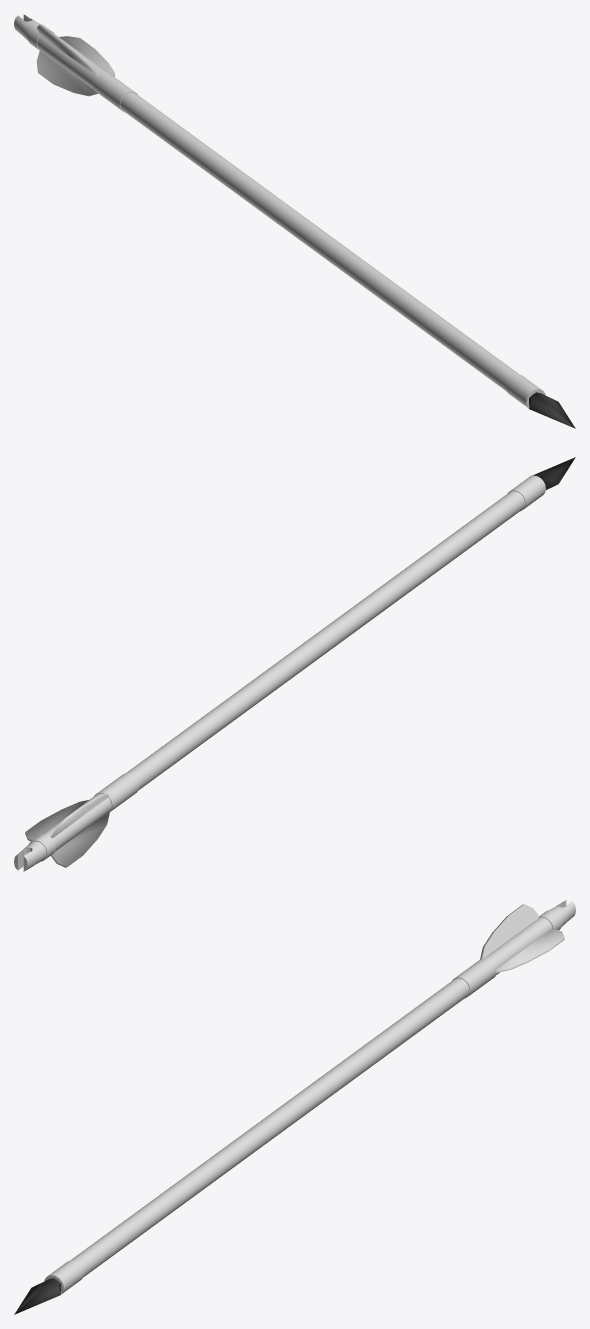
3 views of the same model, one above another, from view 1: azimuth 30°, elevation 25°; view 2: azimuth 150°, elevation 25°; view 3: azimuth 330°, elevation 25° (orthographic).
Visible parts, largest first — view 1: Cylinder001, Arrow, Cylinder004, Cylinder006, Cylinder002, Cylinder005; view 2: Cylinder001, Arrow, Cylinder004, Cylinder002, Cylinder005, Cylinder006; view 3: Cylinder001, Arrow, Cylinder005, Cylinder002, Cylinder006.
Boxes of the visible parts, x1=… form: Cylinder001: x1=14, y1=14, x2=518, y2=391; Arrow: x1=27, y1=24, x2=545, y2=408; Cylinder004: x1=36, y1=50, x2=98, y2=96; Cylinder006: x1=529, y1=392, x2=575, y2=428; Cylinder002: x1=59, y1=36, x2=114, y2=76; Cylinder005: x1=36, y1=24, x2=98, y2=76; Cylinder001: x1=14, y1=491, x2=525, y2=871; Arrow: x1=29, y1=475, x2=545, y2=861; Cylinder004: x1=51, y1=812, x2=109, y2=867; Cylinder002: x1=25, y1=800, x2=88, y2=841; Cylinder005: x1=50, y1=793, x2=109, y2=838; Cylinder006: x1=532, y1=457, x2=575, y2=489; Cylinder001: x1=71, y1=900, x2=575, y2=1277; Arrow: x1=44, y1=910, x2=562, y2=1294; Cylinder005: x1=480, y1=904, x2=539, y2=959; Cylinder002: x1=495, y1=928, x2=564, y2=972; Cylinder006: x1=14, y1=1278, x2=60, y2=1314.
Bounding box in the file's own units: 36.01 × 40.23 × 818.
Materials: 1 (1 with a texture image).
